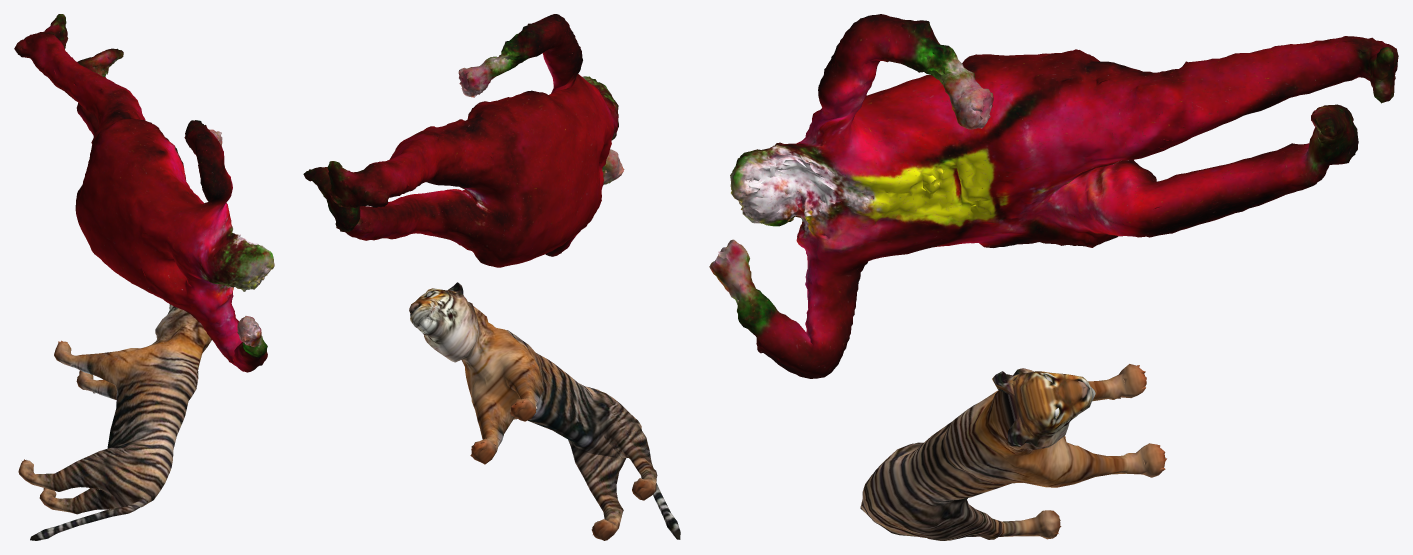
Rendered from joker_after.gltf.
3 views of the same model, side by side, from view 1: azimuth 30°, elevation 25°; view 2: azimuth 150°, elevation 25°; view 3: azimuth 270°, elevation 25° (orthographic). The views are drawn at different scales.
Parts seen in each view (by area): view 1: pose0, U2Q5834CV0L2J029TEKVE4T2O; view 2: pose0, U2Q5834CV0L2J029TEKVE4T2O; view 3: pose0, U2Q5834CV0L2J029TEKVE4T2O.
Boxes of the visible parts, x1,y1,x2,y2 form: pose0: (14,14,274,372); U2Q5834CV0L2J029TEKVE4T2O: (18,304,211,540); pose0: (303,14,624,267); U2Q5834CV0L2J029TEKVE4T2O: (409,282,680,540); pose0: (709,14,1398,378); U2Q5834CV0L2J029TEKVE4T2O: (860,364,1166,540).
Size of the model in its own units: 0.6234 by 1.12 by 1.15.
2 materials, 2 textured.
